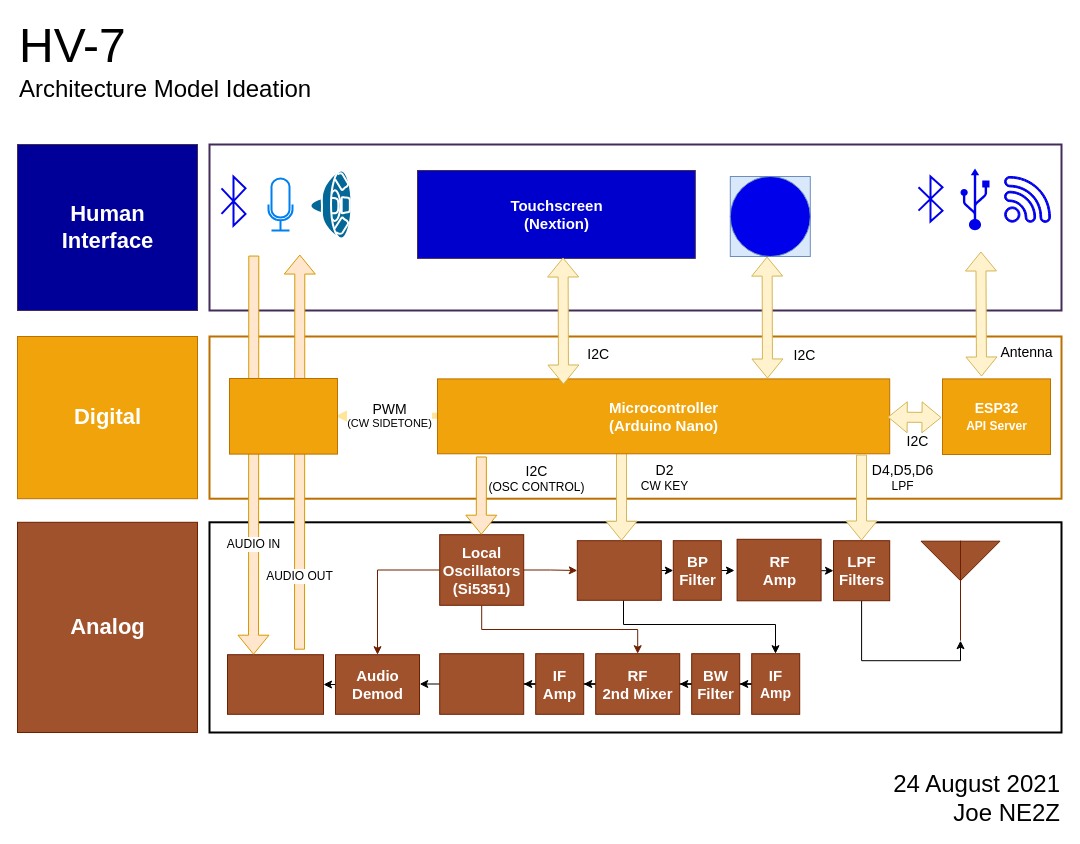
Image size: 1080x844. Some labels were removed from this diagram. The shapes that lost their labels are listed below. From the top down, each one's box as (x1, y1, x2, y2) in pixels, then its label:
(267, 177, 293, 231): Audio Services
(729, 176, 810, 256): Rotary Encoder
(960, 168, 989, 230): Control Services
(228, 378, 338, 454): Bluetooth Audio Module
(576, 540, 661, 600): RF 1st Mixer
(226, 654, 324, 714): Audio Amp
(439, 653, 524, 714): SSB Filter
